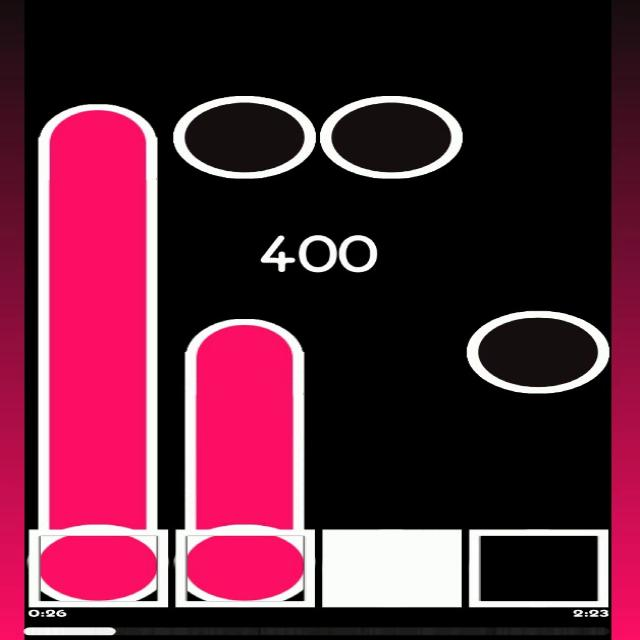end_hold: (29, 84, 166, 152), (179, 302, 307, 368)
note: (320, 92, 466, 180), (464, 308, 610, 396), (175, 92, 316, 180)
start_hold: (186, 500, 310, 602), (36, 510, 160, 602)
